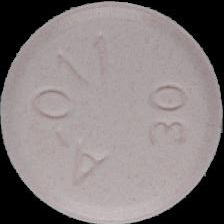59148-011: (0, 0, 224, 224)
